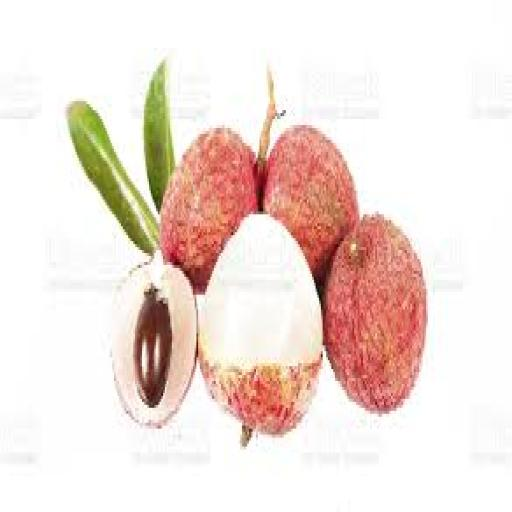lychee: (199, 215, 322, 434), (323, 215, 427, 413), (160, 128, 257, 291), (264, 126, 359, 282), (113, 254, 196, 425)
